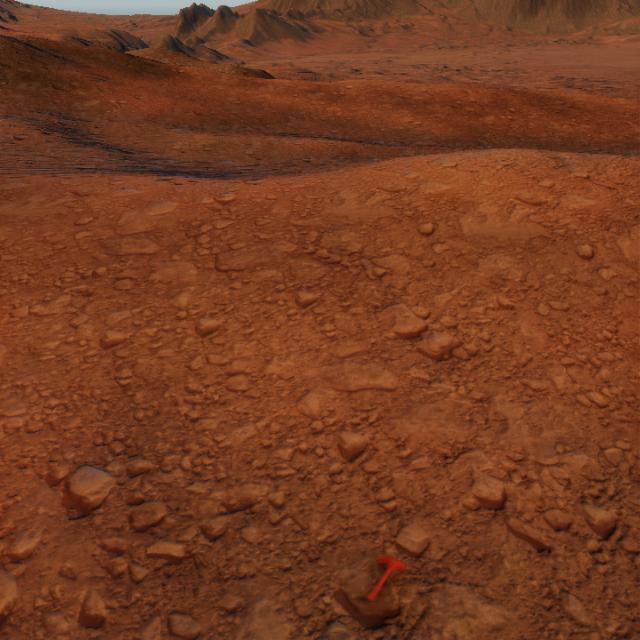newhammer: (368, 556, 405, 602)
